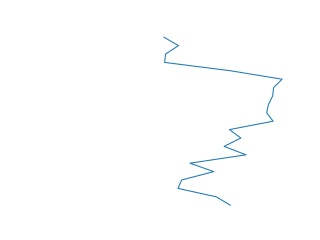floodPlain: (161, 35, 284, 207)
